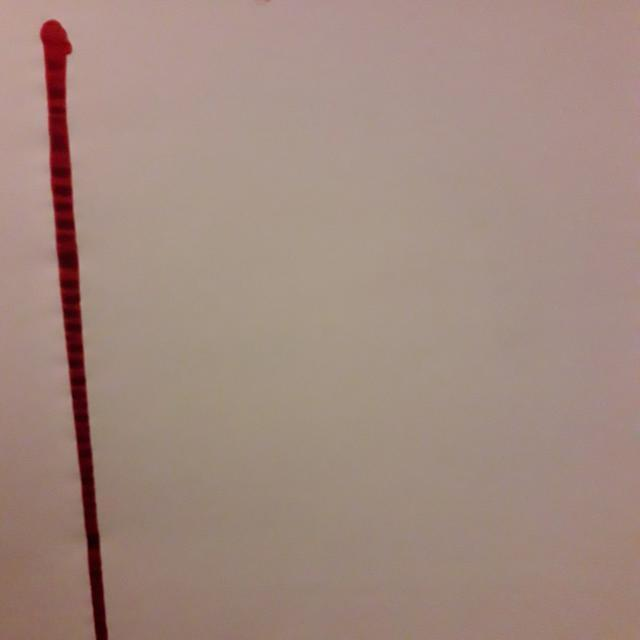wound: (31, 4, 145, 640)
